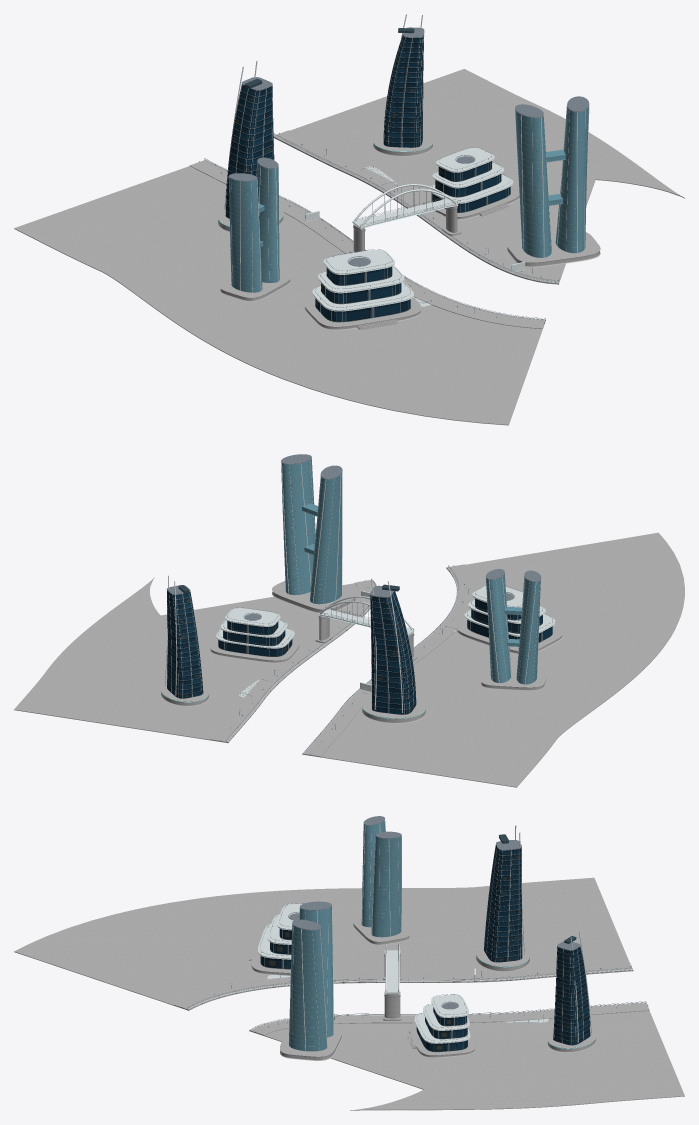
The model's file is waterfront.glb.
The picture shows the model from 3 angles, top to bottom: view 1: azimuth 30°, elevation 25°; view 2: azimuth 150°, elevation 25°; view 3: azimuth 270°, elevation 25°; orthographic projection. The views are drawn at different scales.
Visible parts, largest first — view 1: Sample_CC0_Concrete034, Sample_Silver_blue_glazing, Sample_Blue_laminated_glazing, Sample_Pearl_ceramic, Sample_CC0_Metal032; view 2: Sample_CC0_Concrete034, Sample_Silver_blue_glazing, Sample_Blue_laminated_glazing, Sample_Pearl_ceramic, Sample_CC0_Metal032; view 3: Sample_CC0_Concrete034, Sample_Silver_blue_glazing, Sample_Blue_laminated_glazing, Sample_Pearl_ceramic, Sample_CC0_Metal032.
Part boxes in pixels (x1=…): Sample_CC0_Concrete034: x1=14, y1=69, x2=684, y2=425; Sample_Silver_blue_glazing: x1=229, y1=106, x2=588, y2=292; Sample_Blue_laminated_glazing: x1=225, y1=33, x2=510, y2=322; Sample_Pearl_ceramic: x1=204, y1=14, x2=589, y2=321; Sample_CC0_Metal032: x1=199, y1=27, x2=589, y2=323; Sample_CC0_Concrete034: x1=14, y1=532, x2=684, y2=787; Sample_Silver_blue_glazing: x1=281, y1=459, x2=540, y2=684; Sample_Blue_laminated_glazing: x1=167, y1=590, x2=552, y2=714; Sample_Pearl_ceramic: x1=165, y1=461, x2=555, y2=753; Sample_CC0_Metal032: x1=166, y1=454, x2=552, y2=754; Sample_CC0_Concrete034: x1=14, y1=877, x2=684, y2=1110; Sample_Silver_blue_glazing: x1=289, y1=820, x2=401, y2=1051; Sample_Blue_laminated_glazing: x1=260, y1=845, x2=590, y2=1051; Sample_Pearl_ceramic: x1=188, y1=820, x2=646, y2=1051; Sample_CC0_Metal032: x1=182, y1=816, x2=648, y2=1052.
Bounding box in the file's own units: 353 × 94.19 × 430.
Materials: 7 (3 with a texture image).
